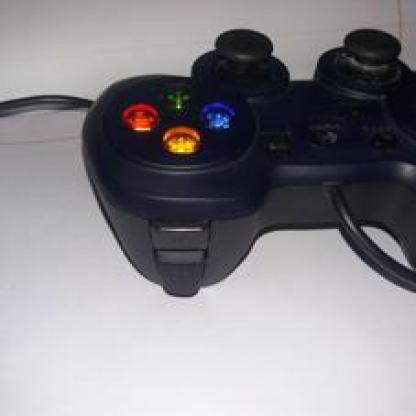gamepad: (81, 15, 415, 306)
